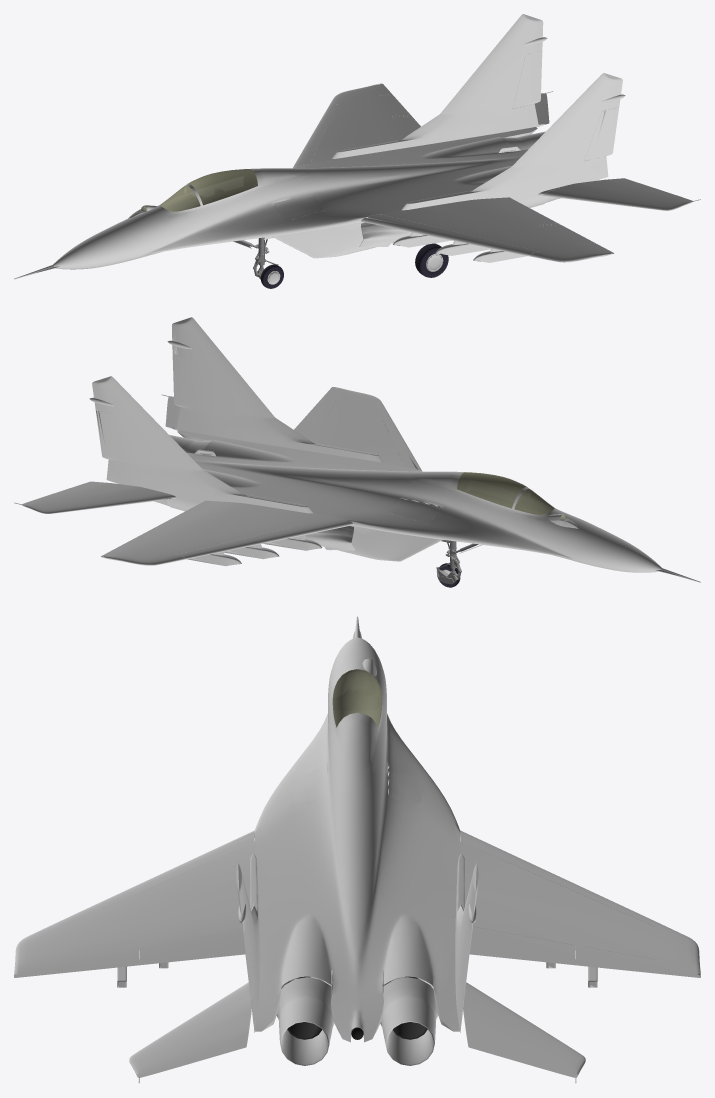
Rendered from mig.obj.
3 renders of one model, top to bottom at view 1: azimuth 30°, elevation 25°; view 2: azimuth 150°, elevation 25°; view 3: azimuth 270°, elevation 25°, orthographic. The views are drawn at different scales.
Parts seen in each view (by area): view 1: object02, object01, object09, object08; view 2: object02, object01, object08; view 3: object02, object01, object00.
Part boxes in pixels (x1,y1,x2,y2): object02: (14, 14, 700, 279); object01: (160, 169, 257, 211); object09: (415, 243, 448, 277); object08: (238, 237, 278, 279); object02: (14, 317, 700, 582); object01: (457, 472, 554, 514); object08: (436, 540, 478, 584); object02: (14, 616, 700, 1083); object01: (332, 669, 382, 727); object00: (287, 976, 427, 1039).
Bounding box in the file's own units: 1740 × 463 × 1142.
